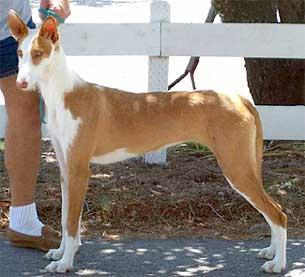Ibizan_hound: (8, 9, 287, 273)
